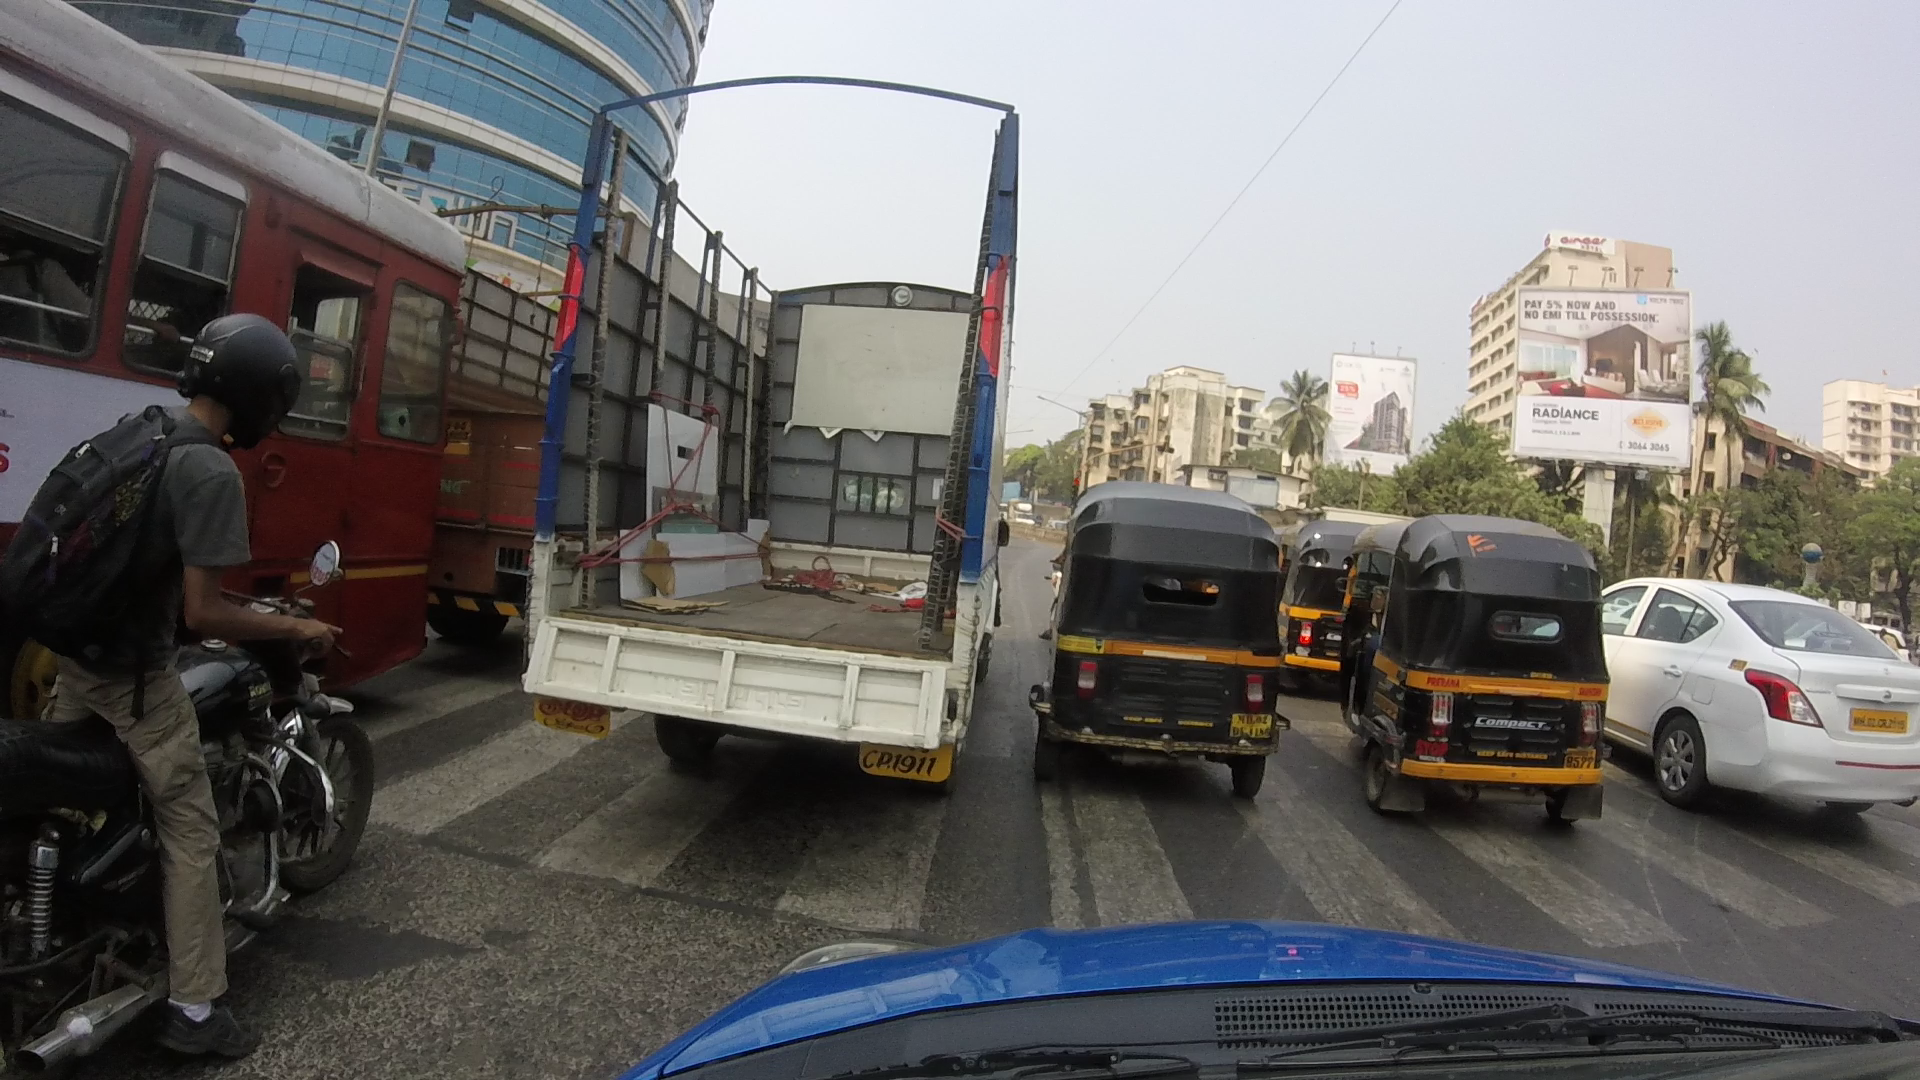bike/scooter: (4, 313, 382, 1080)
bus: (1, 4, 473, 707)
car: (1592, 558, 1920, 833)
rickshaw: (1027, 469, 1309, 798), (1345, 504, 1615, 825), (1280, 496, 1395, 696)
truck: (533, 80, 1054, 798)
